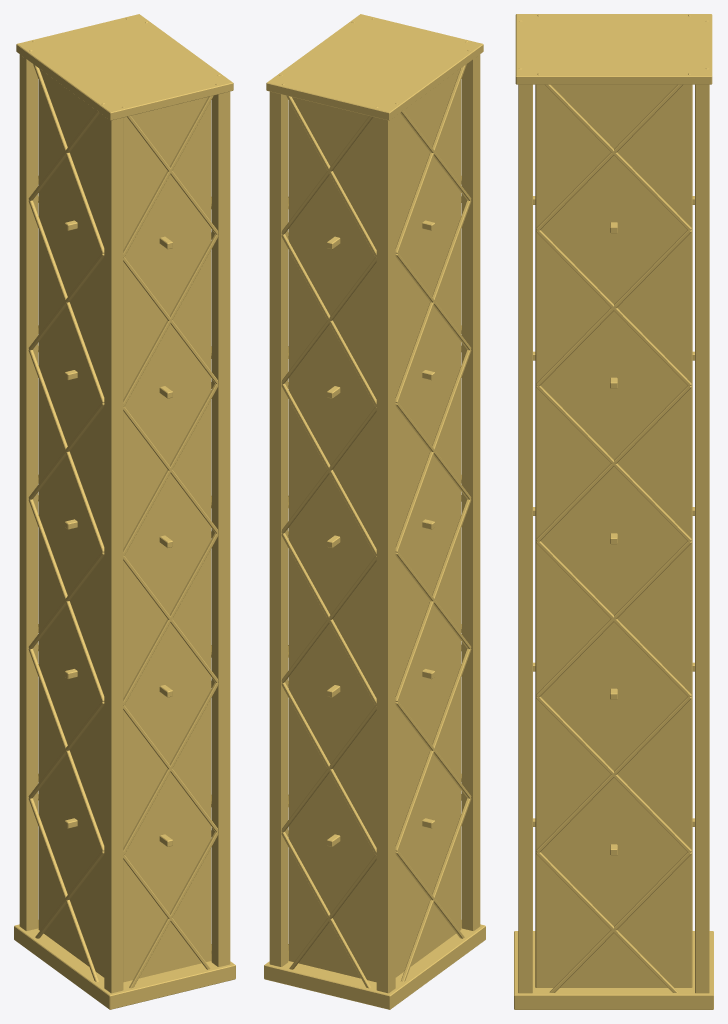
Rendered from SM_TowerShaft_6x43x8.glb.
The picture shows the model from 3 angles, left to right: view 1: azimuth 30°, elevation 25°; view 2: azimuth 150°, elevation 25°; view 3: azimuth 270°, elevation 25°; orthographic projection. The views are drawn at different scales.
Visible parts, largest first — view 1: SM_TowerShaft_6x43x8; view 2: SM_TowerShaft_6x43x8; view 3: SM_TowerShaft_6x43x8.
Boxes of the visible parts, bbox=[...] form: SM_TowerShaft_6x43x8: bbox=[14, 14, 235, 1009]; SM_TowerShaft_6x43x8: bbox=[264, 14, 485, 1009]; SM_TowerShaft_6x43x8: bbox=[514, 14, 713, 1009].
Bounding box in the file's own units: 6.35 × 43.07 × 8.35.
